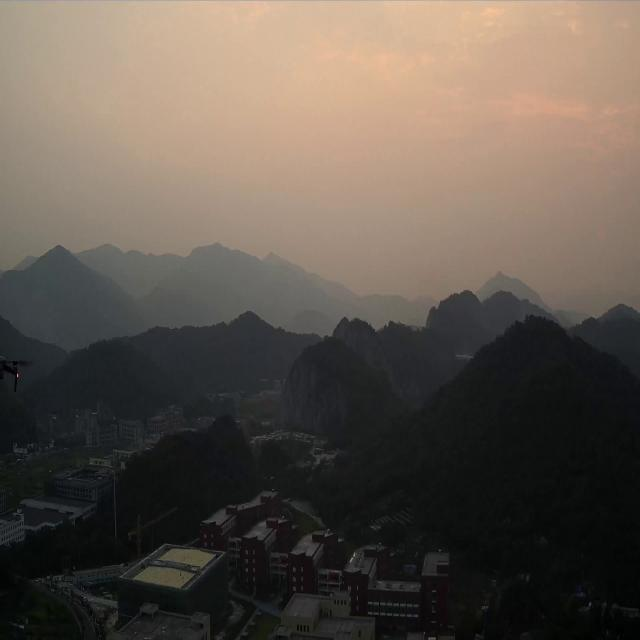UAV: (0, 353, 36, 396)
